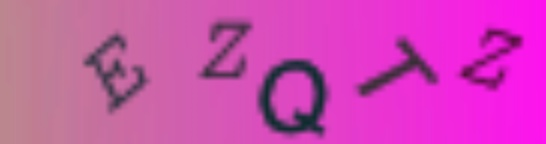E: (80, 28, 152, 114)
Q: (255, 58, 332, 142)
T: (355, 35, 440, 100)
Z: (458, 23, 525, 96), (197, 20, 259, 82)
